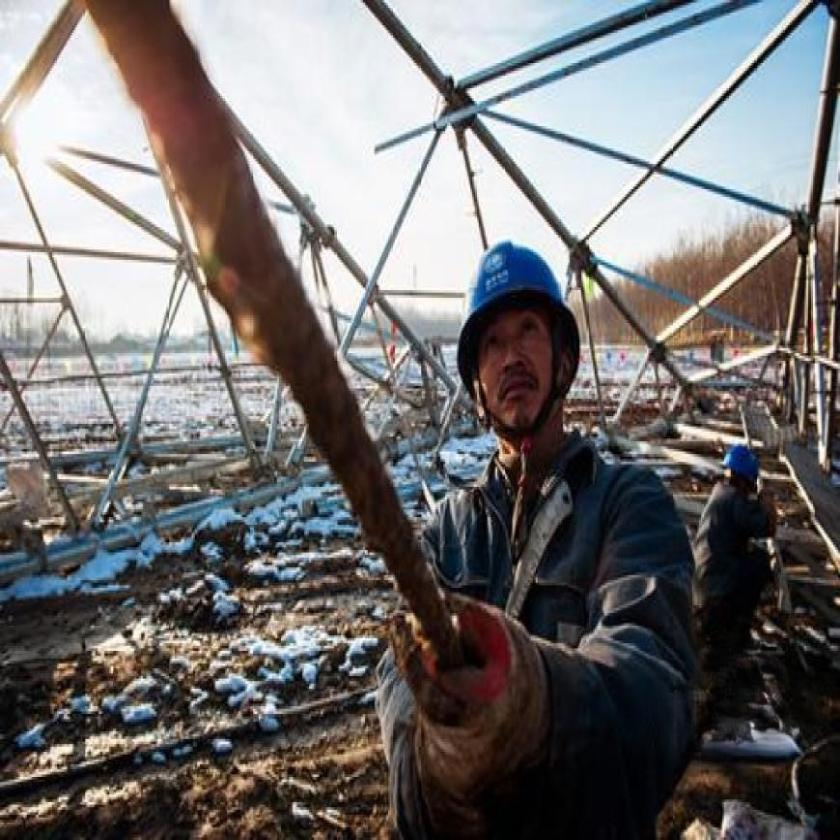Con_casco: (450, 236, 586, 454)
